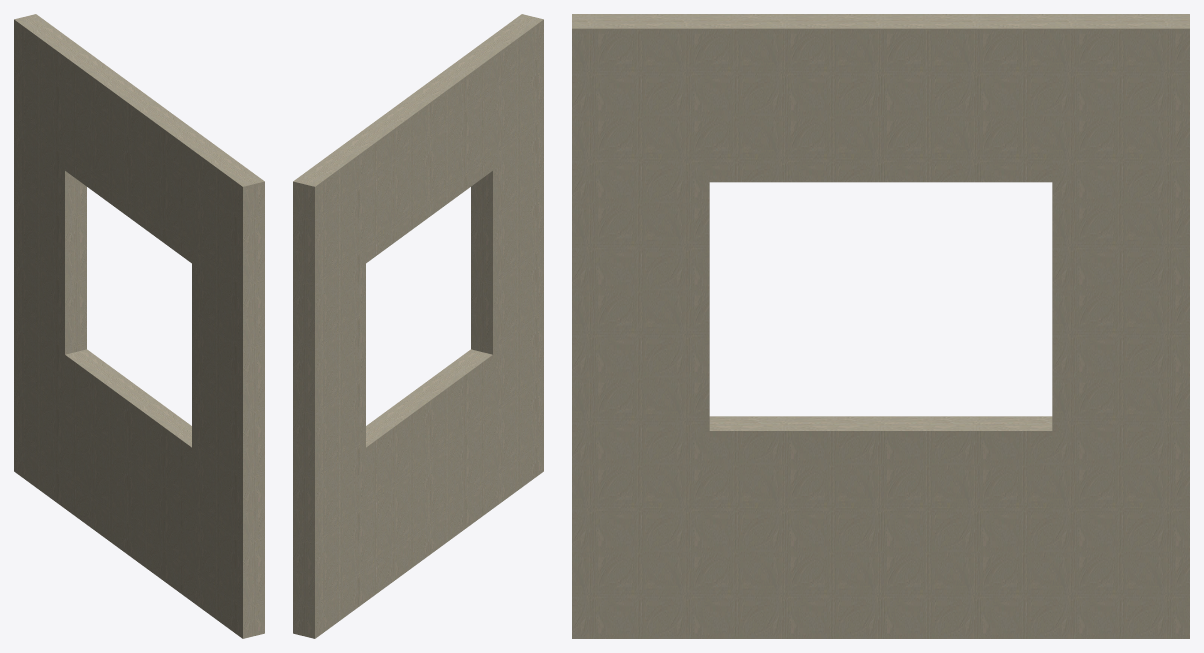
The model's file is soupwindwall033.obj.
The picture shows the model from 3 angles, left to right: view 1: azimuth 30°, elevation 25°; view 2: azimuth 150°, elevation 25°; view 3: azimuth 270°, elevation 25°; orthographic projection. The views are drawn at different scales.
Visible parts, largest first — view 1: soupwindwall033_high_1; view 2: soupwindwall033_high_1; view 3: soupwindwall033_high_1.
Boxes of the visible parts, x1=… form: soupwindwall033_high_1: x1=14, y1=14, x2=264, y2=638; soupwindwall033_high_1: x1=293, y1=14, x2=543, y2=638; soupwindwall033_high_1: x1=572, y1=14, x2=1189, y2=638.
Bounding box in the file's own units: 0.1504 × 2.95 × 2.7.
